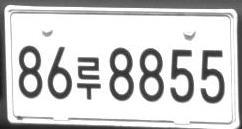5: (200, 48, 225, 104), (170, 49, 194, 103)
6: (47, 46, 72, 100)
8: (138, 47, 165, 102), (17, 44, 43, 99), (108, 46, 134, 101)
루: (76, 56, 101, 99)
